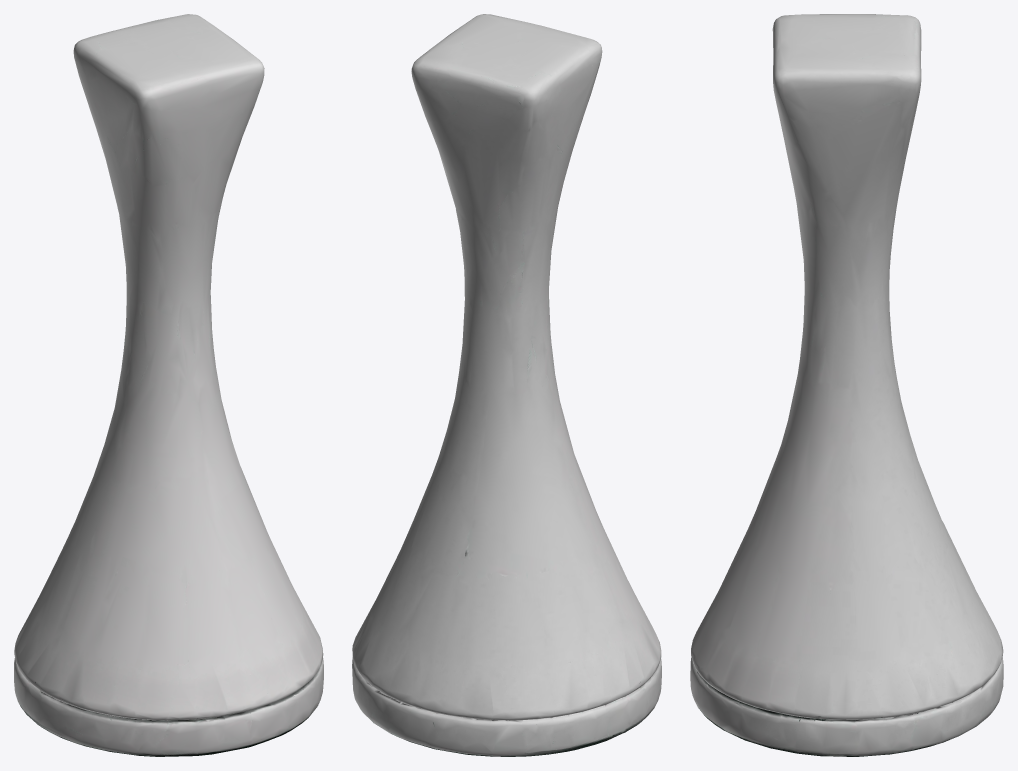
Rendered from queen-white.glb.
3 renders of one model, left to right at view 1: azimuth 30°, elevation 25°; view 2: azimuth 150°, elevation 25°; view 3: azimuth 270°, elevation 25°, orthographic.
Size of the model in its own units: 0.7143 by 1.65 by 0.7141.
1 material, 1 textured.
